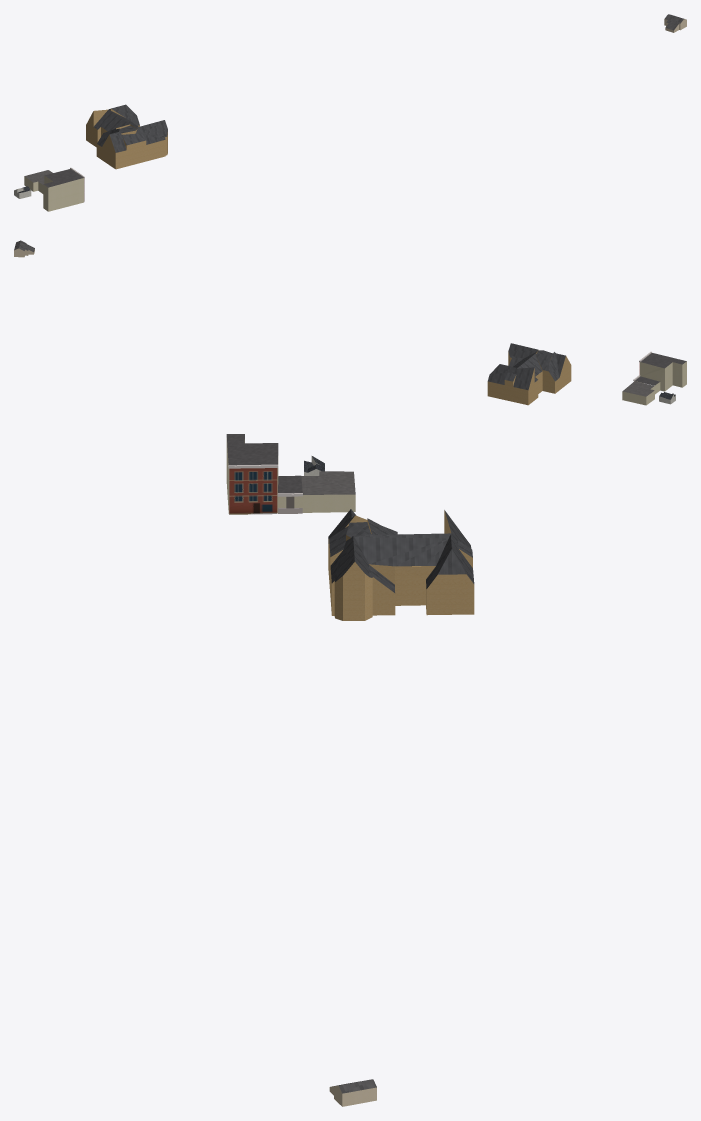
The picture shows the model from 3 angles, top to bottom: view 1: azimuth 30°, elevation 25°; view 2: azimuth 150°, elevation 25°; view 3: azimuth 270°, elevation 25°; orthographic projection. The views are drawn at different scales.
Visible parts, largest first — view 1: bldg_6003940711, bldg_6003940711_roof, bldg_6003940674, bldg_6003940674_roof; view 2: bldg_6003940711_roof, bldg_6003940711, bldg_6003940674, bldg_6003940674_roof, bldg_6003940680, bldg_6003940680_roof; view 3: bldg_6003940711, bldg_6003940711_roof, bldg_6003940674_facade1, bldg_6003940674_roof, bldg_6003940680_roof, bldg_6003940680.
Boxes of the visible parts, x1,y1,x2,y2 form: bldg_6003940711: (86,109,167,169); bldg_6003940711_roof: (94,104,167,152); bldg_6003940674: (43,175,83,211); bldg_6003940674_roof: (43,169,82,187); bldg_6003940711_roof: (488,343,565,390); bldg_6003940711: (487,350,571,405); bldg_6003940674: (637,361,686,394); bldg_6003940674_roof: (635,353,686,385); bldg_6003940680: (622,386,654,405); bldg_6003940680_roof: (622,381,654,396); bldg_6003940711: (328,510,474,620); bldg_6003940711_roof: (328,509,474,592); bldg_6003940674_facade1: (228,464,278,514); bldg_6003940674_roof: (226,434,302,493); bldg_6003940680_roof: (301,471,355,494); bldg_6003940680: (302,494,355,512).
Bounding box in the file's own units: 217 × 10.56 × 35.78.
Materials: 13 (10 with a texture image).
